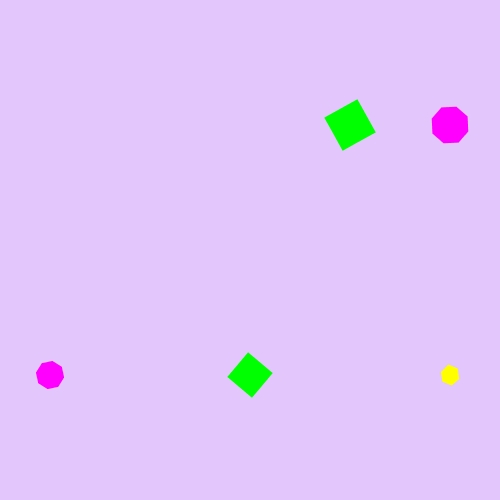hexagon: (435, 362, 465, 388)
octagon: (427, 102, 474, 149), (32, 357, 69, 394)
quadrilateral: (321, 96, 380, 155), (224, 349, 276, 401)
